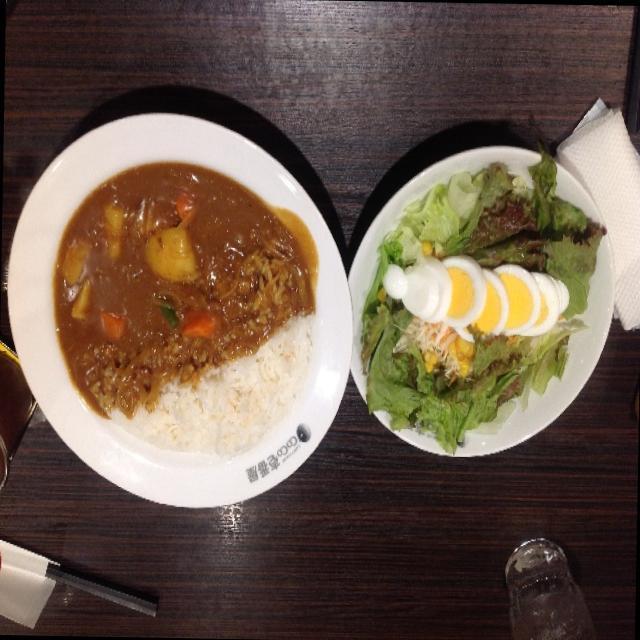Beef Curry: (48, 182, 308, 407)
